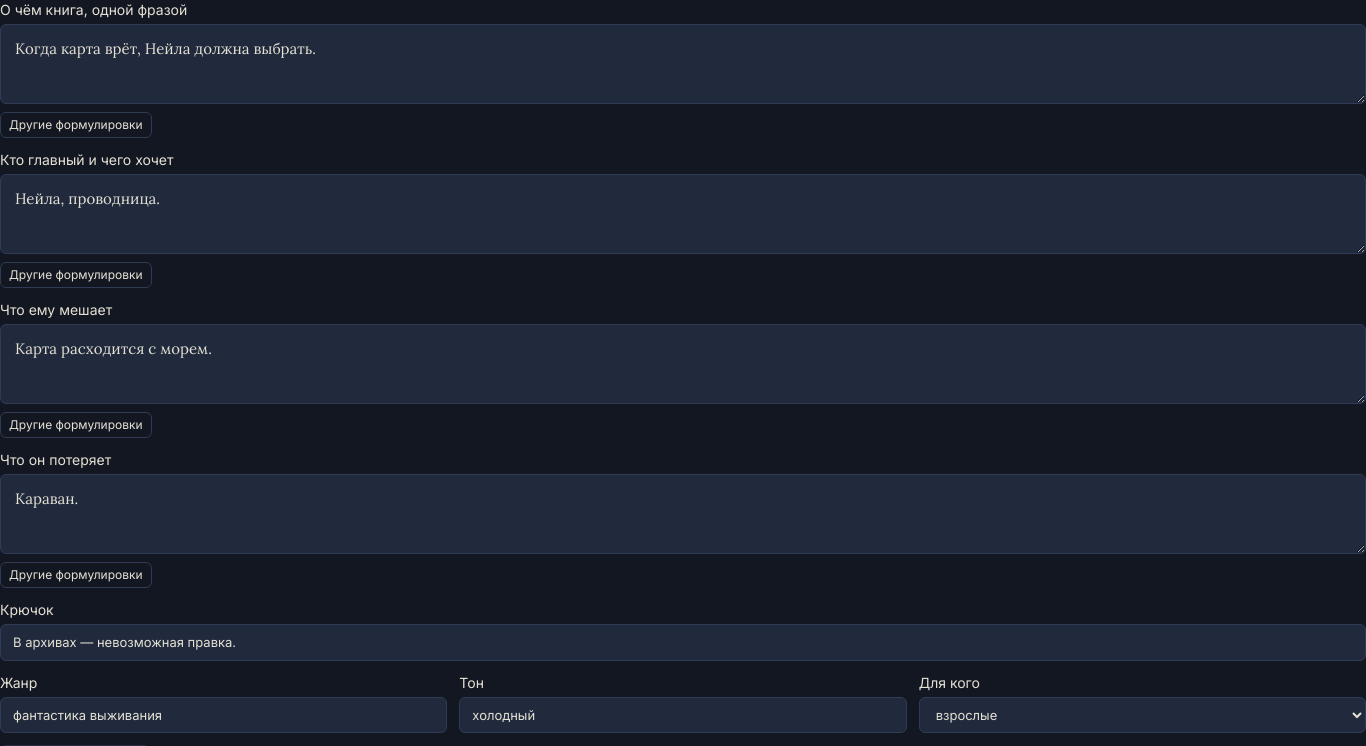
ConceptCard › offers other phrasings for a premise line
The width and height of the screenshot is (1366, 746).
# Строки идут в порядке PREMISE_ROWS: первая — «О чём книга, одной фразой» (logline).
What coordinates should you click on to do the following:
click the button "Другие формулировки" below "О чём книга, одной фразой"
I would click on:
 (76, 125)
Its box is [0,112,152,138].
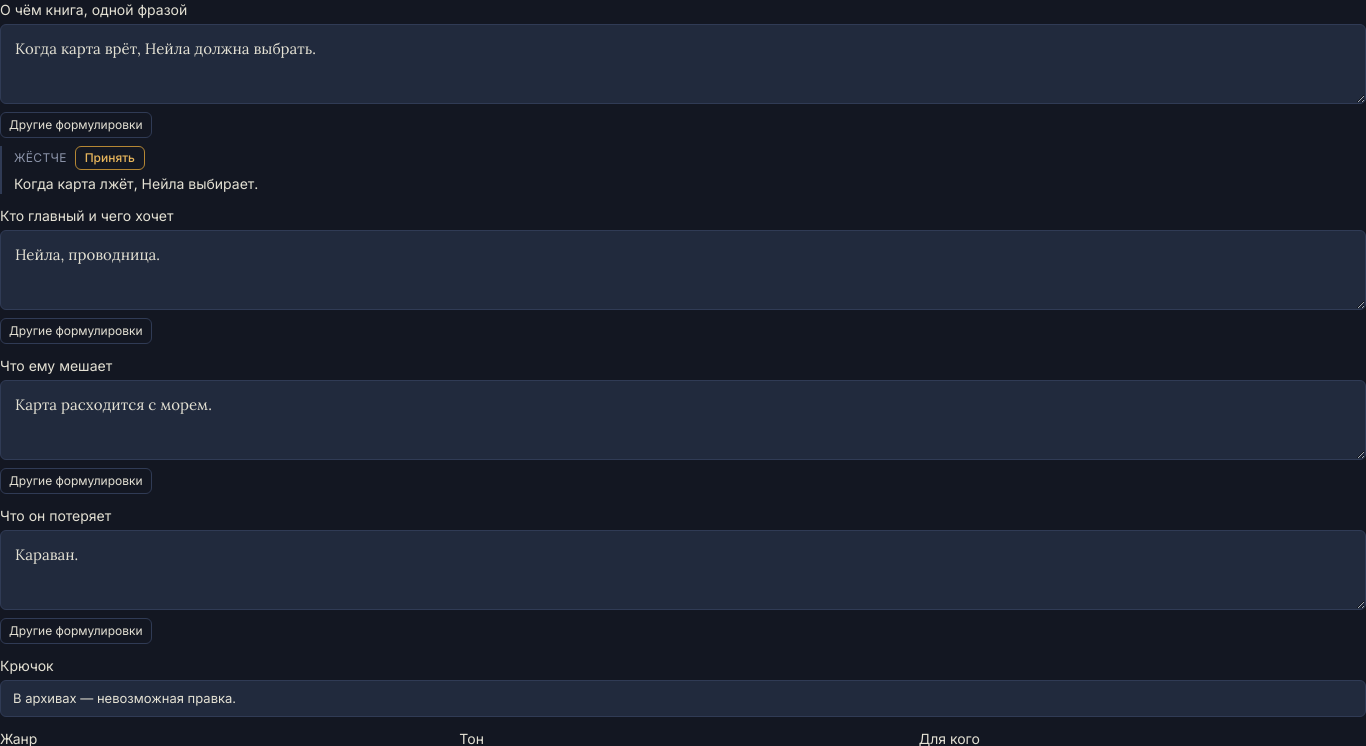
What coordinates should you click on to do the following:
click the button "Принять"
I would click on:
 (110, 158)
Its box is [75,146,145,170].
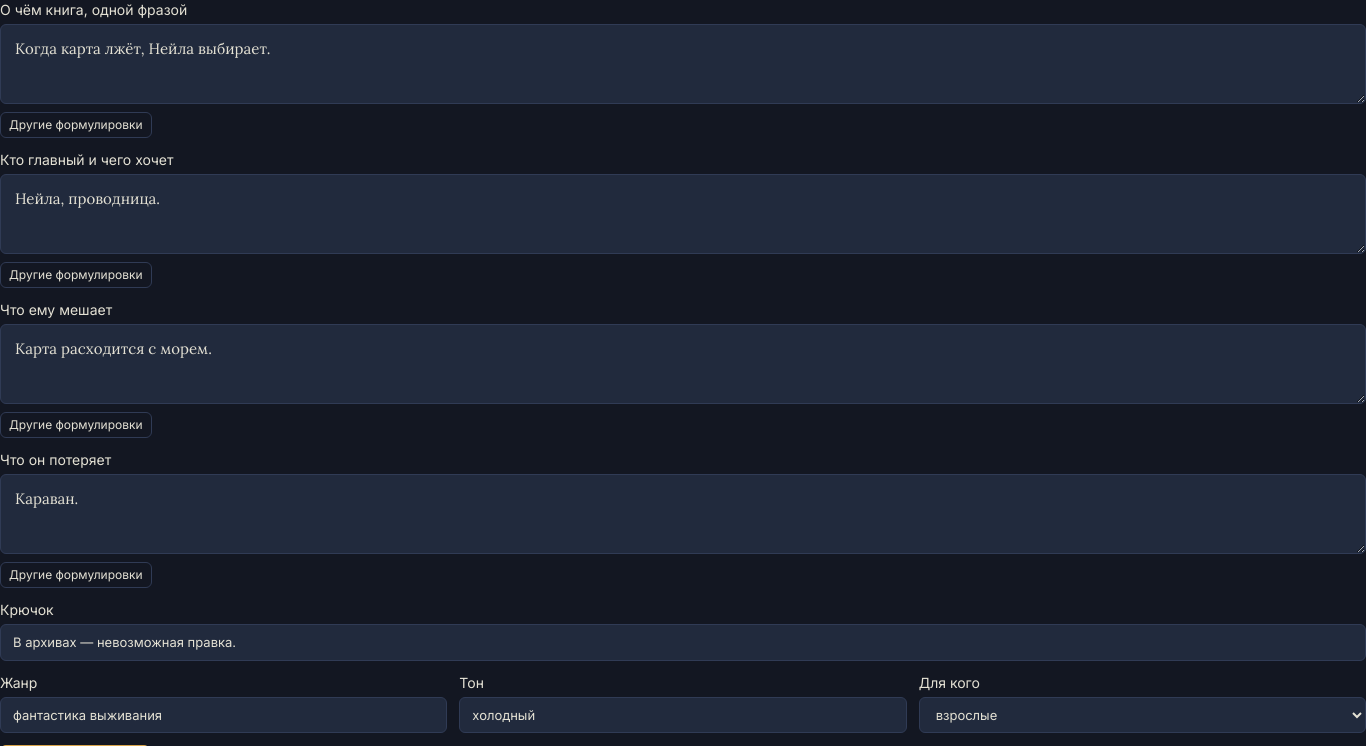
Result: the text box showing "Когда карта лжёт, Нейла выбирает." is shown at [0,24,1365,104]
